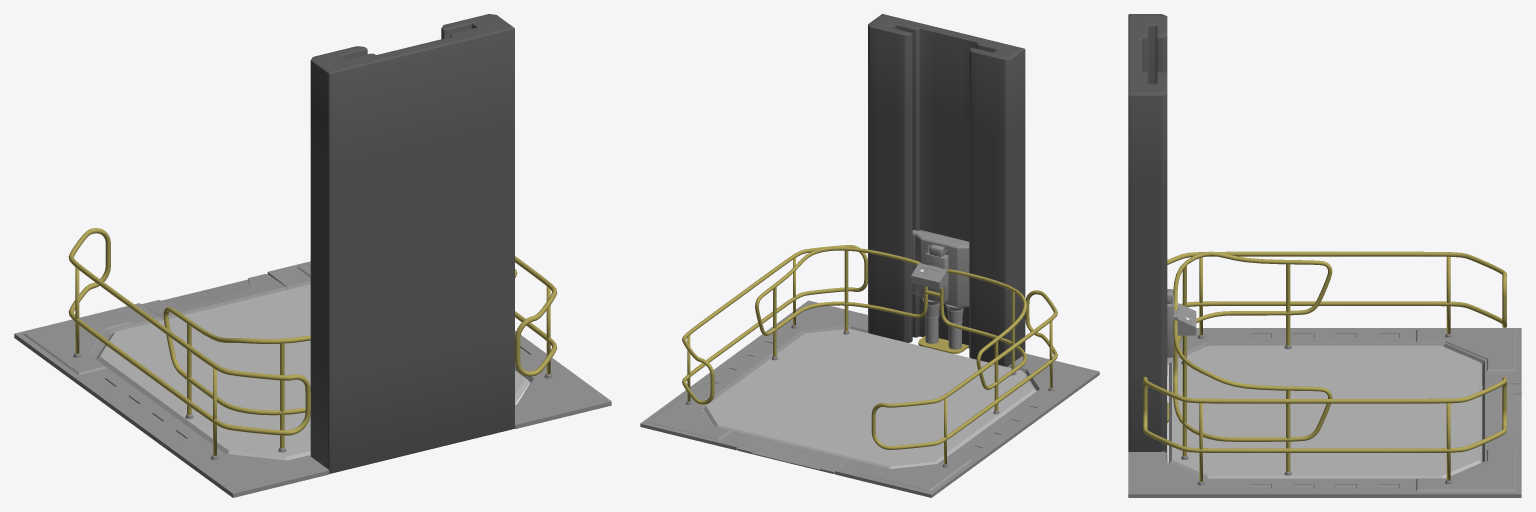
The model's file is lift.fbx.
3 renders of one model, left to right at view 1: azimuth 30°, elevation 25°; view 2: azimuth 150°, elevation 25°; view 3: azimuth 270°, elevation 25°, orthographic. The views are drawn at different scales.
Visible parts, largest first — view 1: Cube.003, Plane.003, Plane.002, Frame_Outer.002, Frame_Inner.001; view 2: Cube.003, Plane.003, Plane.002, Frame_Outer.002, Cube.002, Frame_Inner.001; view 3: Plane.003, Plane.002, Cube.003, Frame_Outer.002, Frame_Inner.001, Cube.002.
Boxes of the visible parts, <box> form: Cube.003: <box>310,14,514,473</box>; Plane.003: <box>96,284,530,460</box>; Plane.002: <box>14,261,611,497</box>; Frame_Outer.002: <box>68,228,557,455</box>; Frame_Inner.001: <box>163,269,517,448</box>; Cube.003: <box>868,14,1025,366</box>; Plane.003: <box>703,328,1036,468</box>; Plane.002: <box>640,300,1099,497</box>; Frame_Outer.002: <box>682,245,1057,464</box>; Cube.002: <box>911,230,969,353</box>; Frame_Inner.001: <box>755,247,1026,410</box>; Plane.003: <box>1168,345,1482,478</box>; Plane.002: <box>1128,328,1521,497</box>; Cube.003: <box>1128,14,1167,452</box>; Frame_Outer.002: <box>1143,251,1506,481</box>; Frame_Inner.001: <box>1173,251,1332,471</box>; Cube.002: <box>1167,289,1196,422</box>.
Size of the model in its own units: 300 by 303 by 300.
